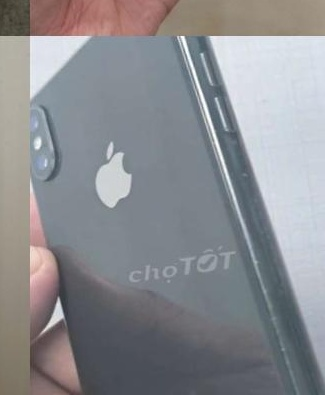scratch: (241, 251, 302, 376), (242, 194, 269, 215), (233, 165, 257, 184), (313, 379, 325, 395)
